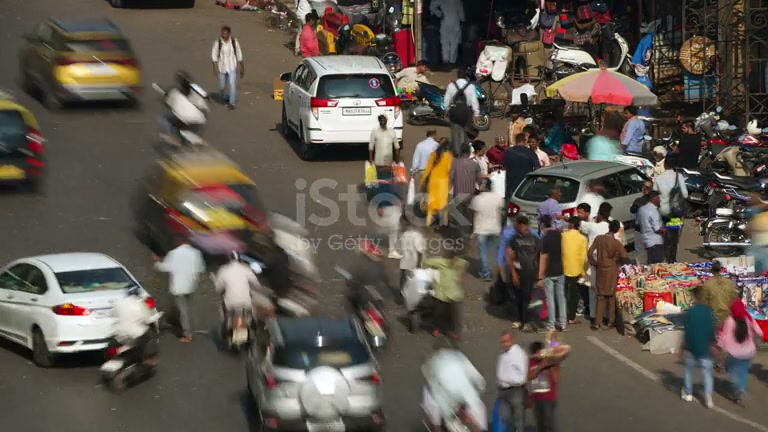car: (0, 251, 158, 368), (242, 315, 386, 431), (277, 54, 404, 160), (506, 156, 657, 237), (17, 16, 144, 110), (419, 346, 489, 432), (0, 93, 49, 193)
motorcycle: (134, 139, 275, 268), (152, 69, 211, 154), (98, 318, 163, 393), (337, 272, 389, 350)
pedestrian: (213, 251, 280, 356), (152, 231, 207, 342), (714, 298, 759, 407), (586, 220, 629, 333), (213, 251, 262, 350), (678, 286, 716, 409), (424, 244, 468, 347), (525, 339, 570, 432), (504, 214, 540, 330), (468, 177, 506, 284), (491, 331, 529, 432), (536, 213, 568, 332), (560, 215, 589, 328), (210, 25, 244, 110), (635, 190, 667, 264), (367, 114, 399, 182)
